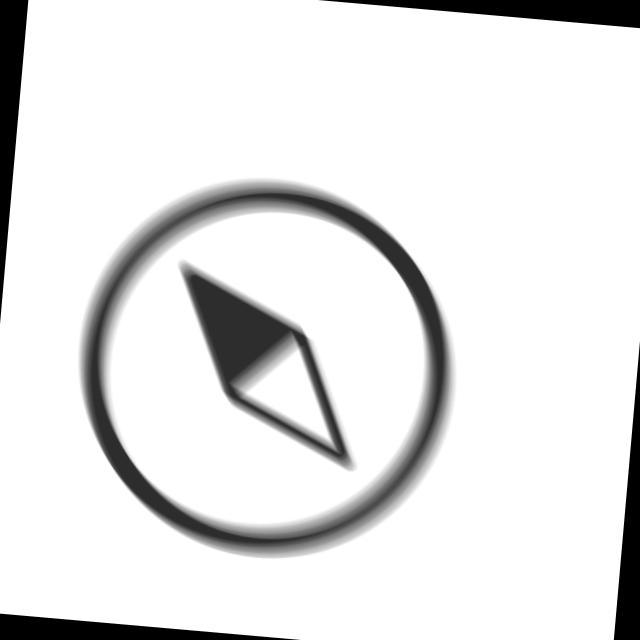compass: (58, 157, 478, 578)
